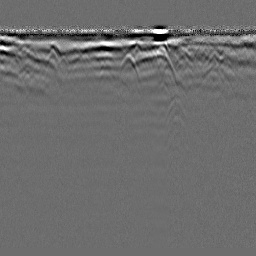cavity: (119, 53, 140, 79)
